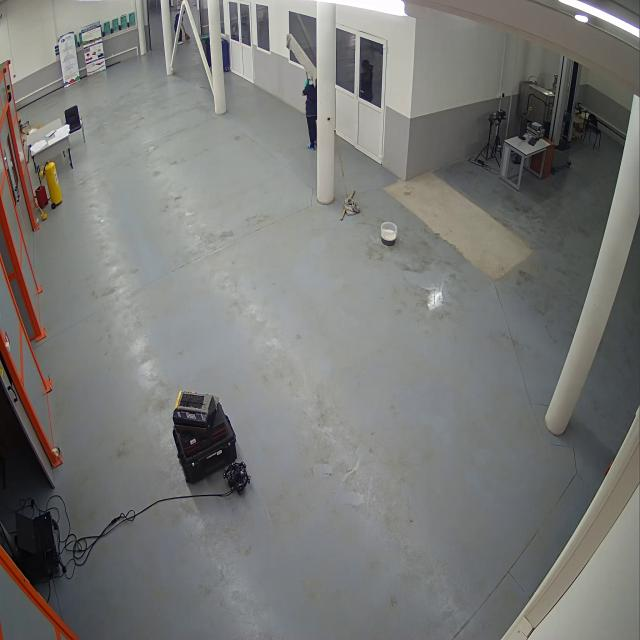Person: (298, 74, 319, 154), (174, 5, 189, 48)
